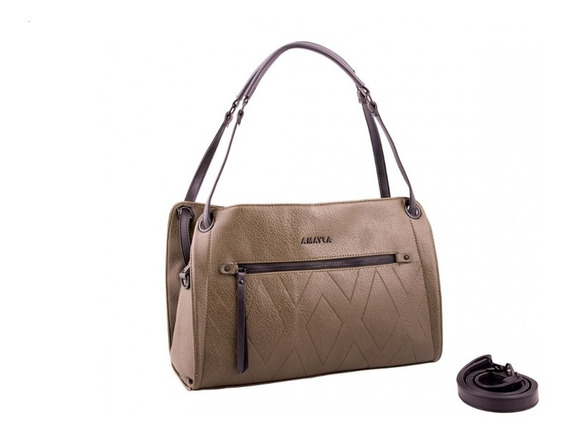cartera: (161, 40, 440, 390)
